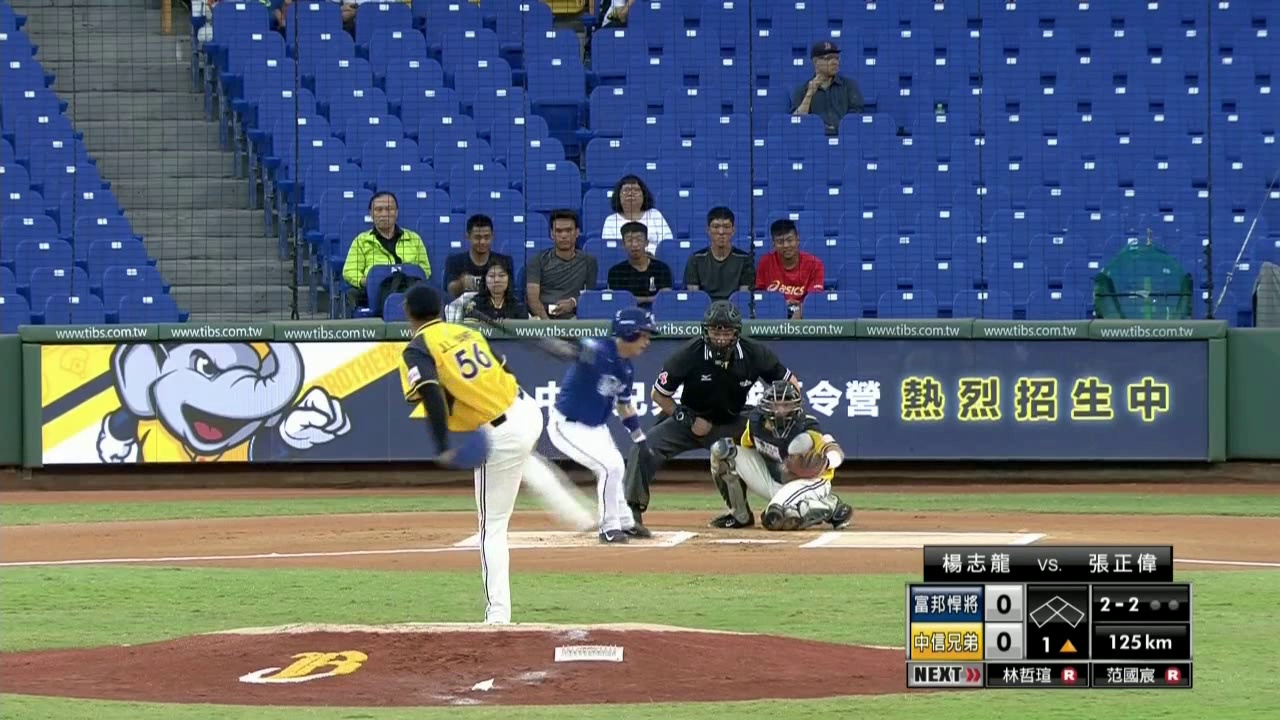base: (1029, 593, 1086, 627)
bat: (459, 302, 546, 349)
out: (1147, 597, 1181, 612)
score1: (985, 584, 1022, 619)
score2: (985, 622, 1022, 658)
session: (1039, 634, 1079, 654)
speed: (1104, 630, 1175, 653)
strikeball: (1096, 592, 1141, 614)
